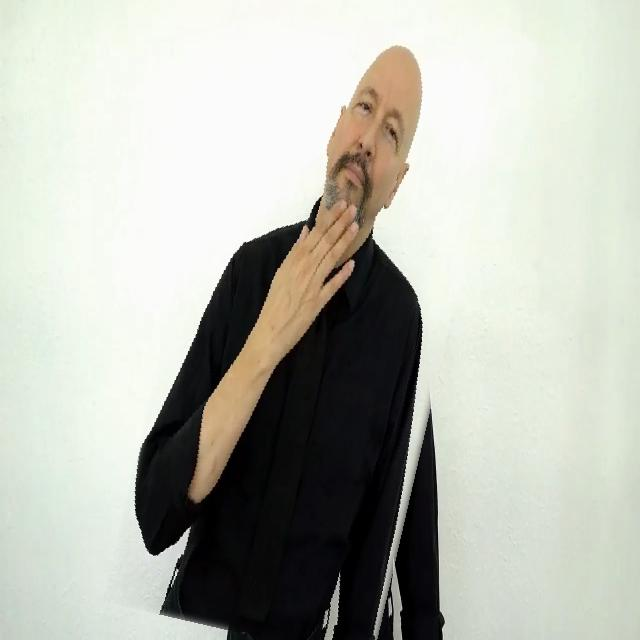ThankYou: (136, 13, 477, 640)
